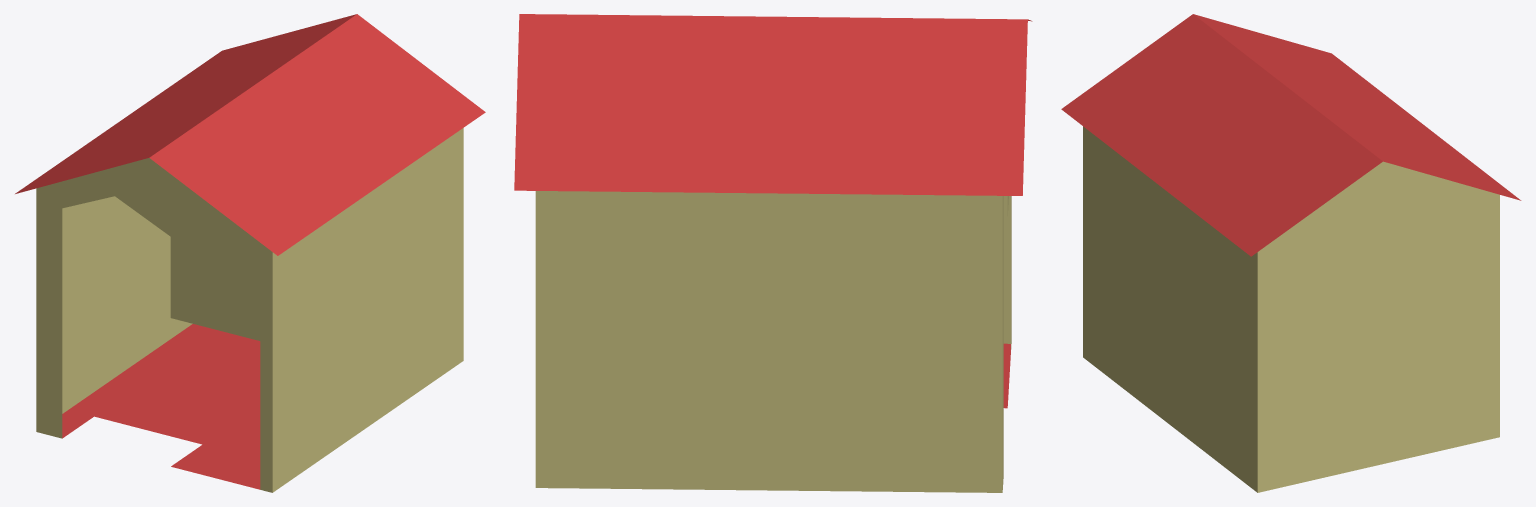
The picture shows the model from 3 angles, left to right: view 1: azimuth 30°, elevation 25°; view 2: azimuth 150°, elevation 25°; view 3: azimuth 270°, elevation 25°; orthographic projection. The views are drawn at different scales.
Size of the model in its own units: 15.34 by 14.24 by 10.58.
